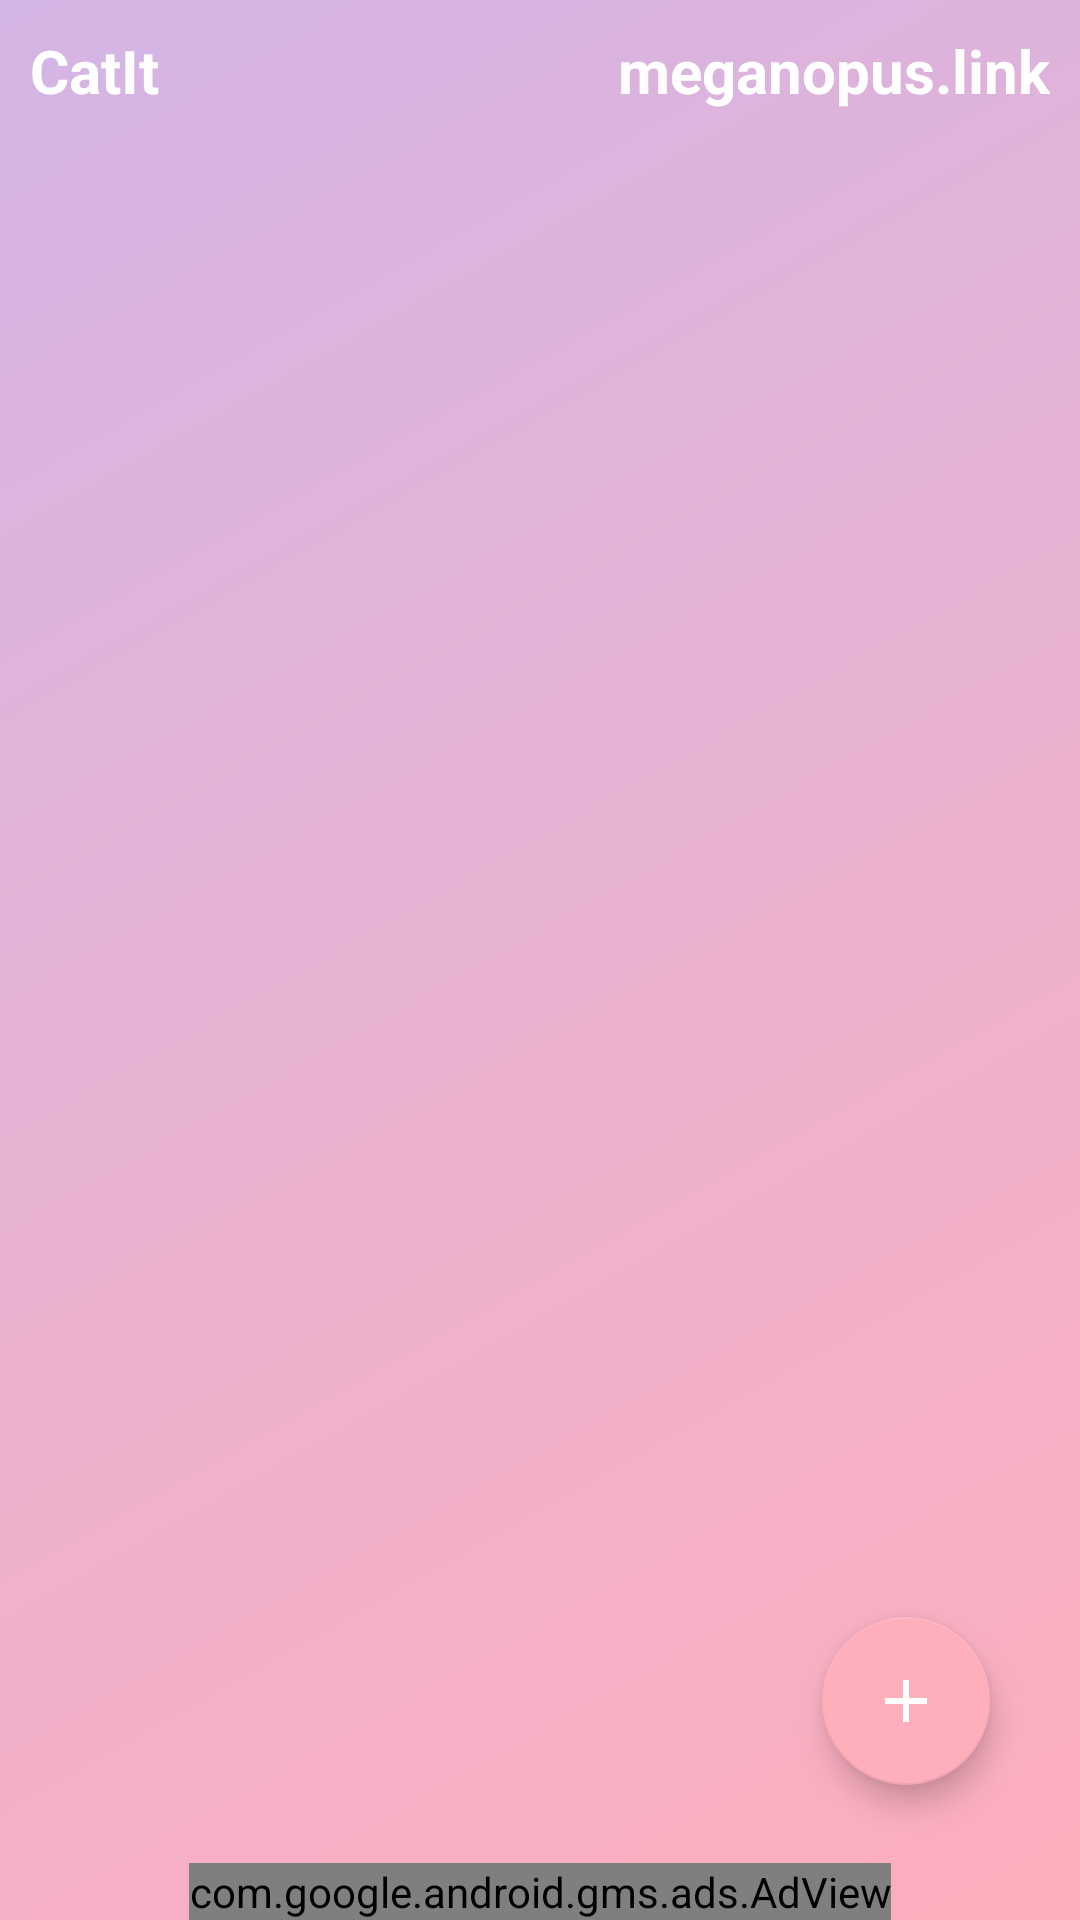

Screen size 1080px×1920px. Icon name, then its center in pixels as point (x, y):
add Button: point (906, 1701)
